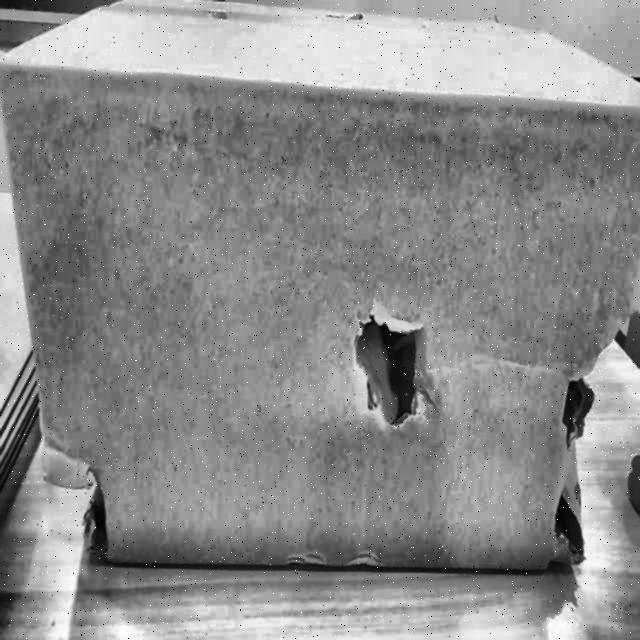box: (0, 0, 639, 573)
hole: (355, 316, 434, 428), (545, 370, 588, 556), (87, 459, 119, 555)
